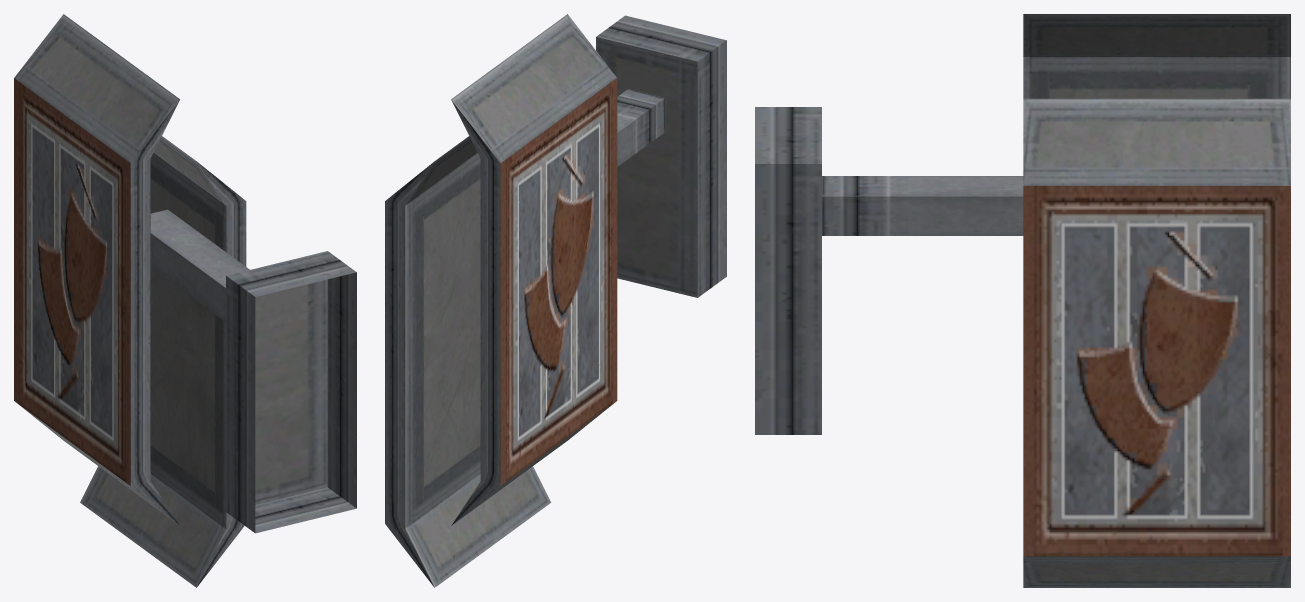
File: thm_sign_all_hanging_l1.fbx
3 renders of one model, left to right at view 1: azimuth 30°, elevation 25°; view 2: azimuth 150°, elevation 25°; view 3: azimuth 270°, elevation 25°, orthographic. The views are drawn at different scales.
Parts seen in each view (by area): view 1: mesh_node; view 2: mesh_node; view 3: mesh_node.
Part boxes in pixels (x1,y1,x2,y2): mesh_node: (14, 14, 356, 587); mesh_node: (385, 14, 726, 587); mesh_node: (755, 14, 1290, 587).
Bounding box in the file's own units: 0.346 × 1.41 × 1.21.
2 materials, 2 textured.
